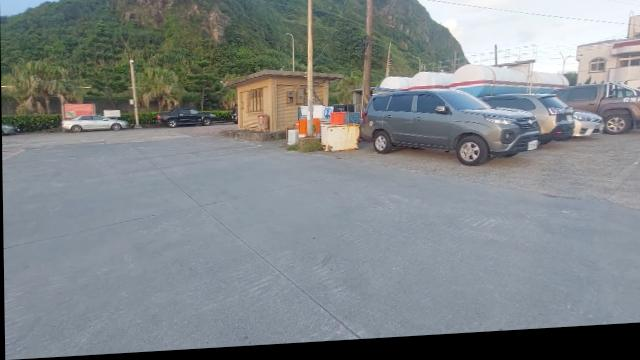pollute: (320, 127, 359, 155), (313, 109, 334, 129), (331, 117, 361, 128), (287, 132, 298, 148), (312, 123, 320, 141), (299, 123, 306, 141), (296, 110, 305, 123)
